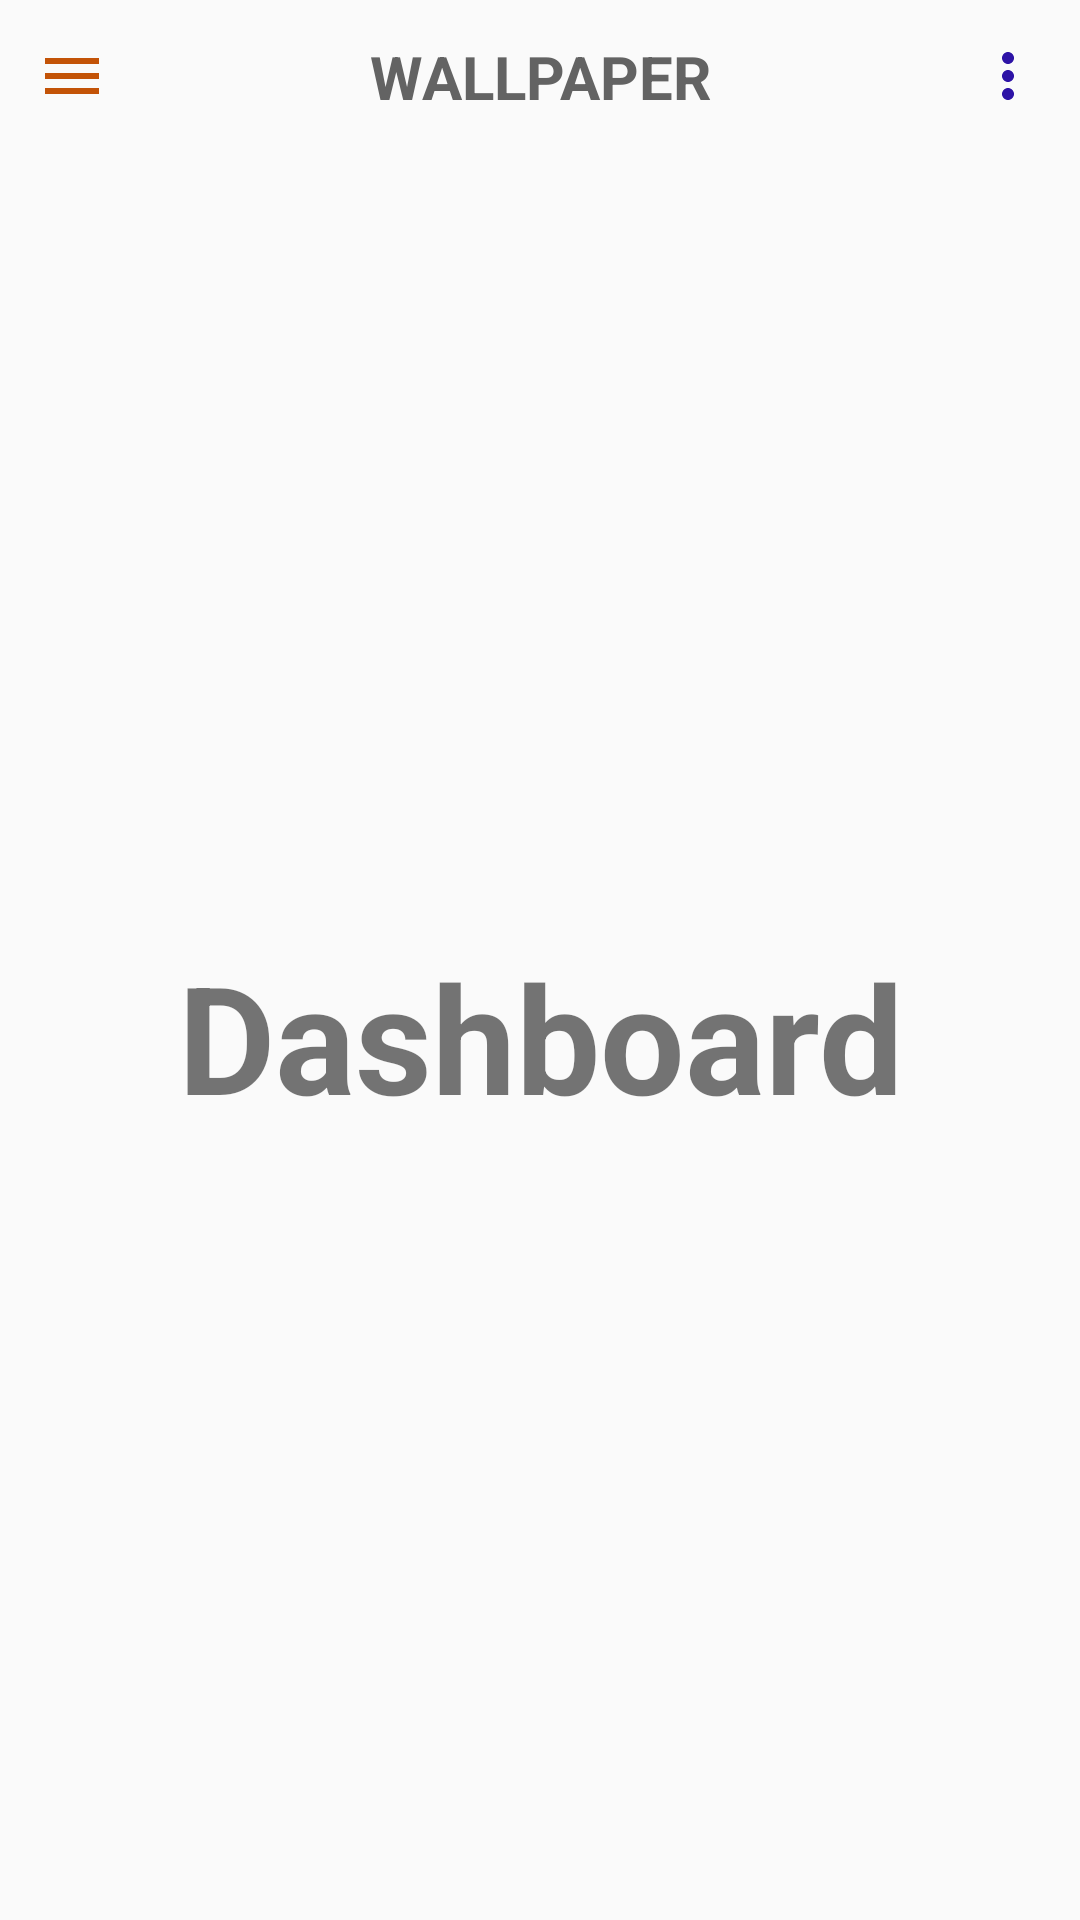

Locate icon controls on the screen. Image size 1080*1920, boxes as detection(x1, y1, x2, y2).
menu: detection(45, 58, 99, 94)
more: detection(1002, 52, 1014, 100)
